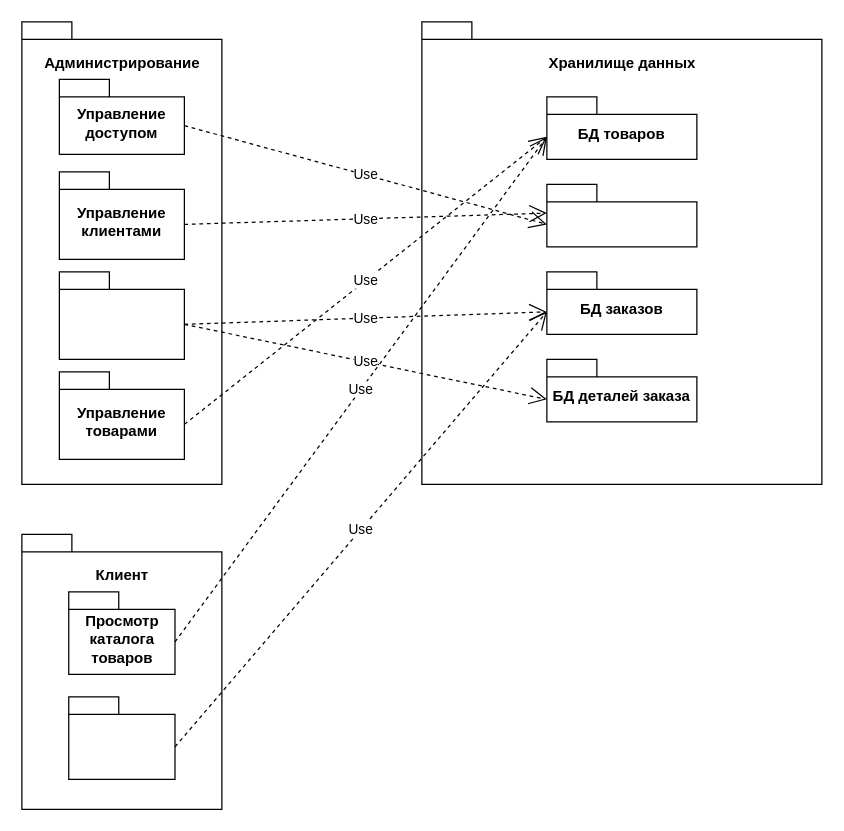
Image size: 844x831. Some labels were removed from this diagram. Each missing label, with the box of its shape:
БД клиентов: (546, 183, 697, 247)
Просмотр своих заказов: (68, 696, 175, 779)
Управление заказами: (58, 271, 184, 359)
